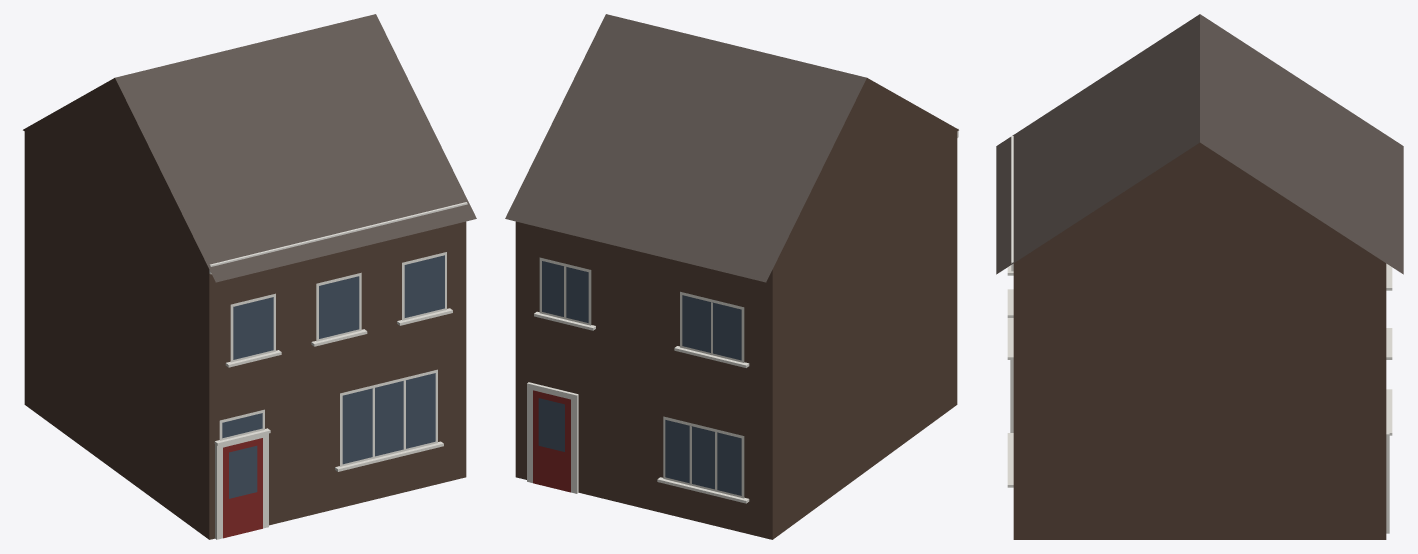
The model's file is nd-to-row__triple__2__gable__long__solid__f1d0.glb.
3 renders of one model, left to right at view 1: azimuth 30°, elevation 25°; view 2: azimuth 150°, elevation 25°; view 3: azimuth 270°, elevation 25°, orthographic.
Parts seen in each view (by area): view 1: nd-to-row__triple__2__gable__long__solid__f1d0; view 2: nd-to-row__triple__2__gable__long__solid__f1d0; view 3: nd-to-row__triple__2__gable__long__solid__f1d0.
Part boxes in pixels (bbox=[...]): nd-to-row__triple__2__gable__long__solid__f1d0: bbox=[23, 14, 476, 539]; nd-to-row__triple__2__gable__long__solid__f1d0: bbox=[505, 14, 958, 539]; nd-to-row__triple__2__gable__long__solid__f1d0: bbox=[996, 14, 1403, 539].
Bounding box in the file's own units: 6.17 × 8.92 × 8.26.
